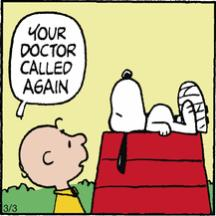charlie: (18, 116, 90, 216)
snoopy: (106, 68, 210, 176)
